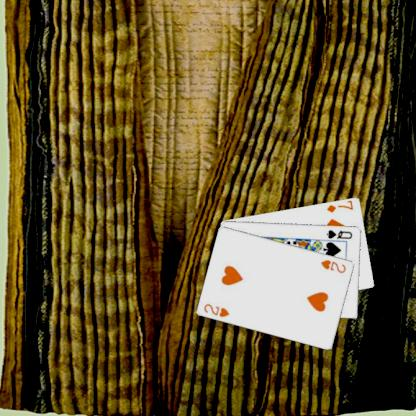2H: (318, 256, 348, 274), (201, 300, 231, 318)
7D: (324, 198, 355, 214)
QS: (324, 227, 354, 240)
